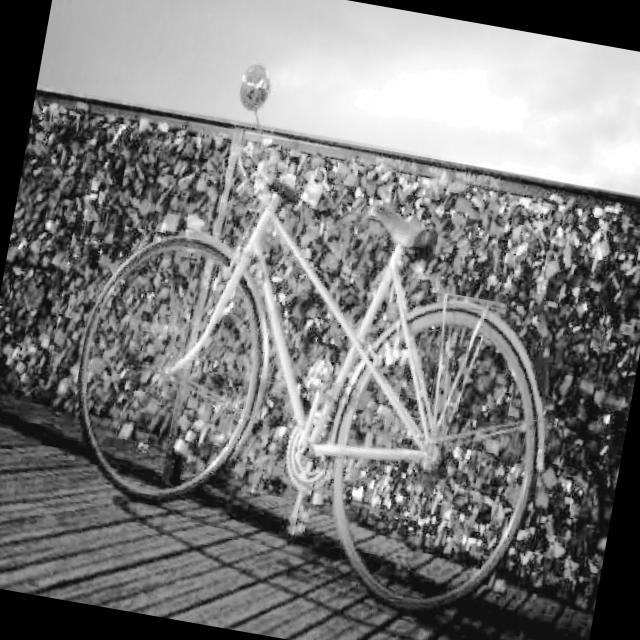Bicycle: (47, 91, 589, 638)
